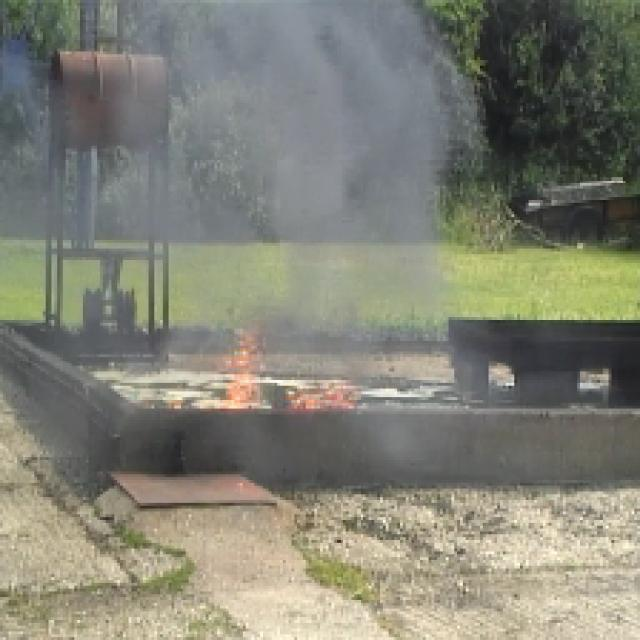Smoke: (284, 83, 428, 262)
